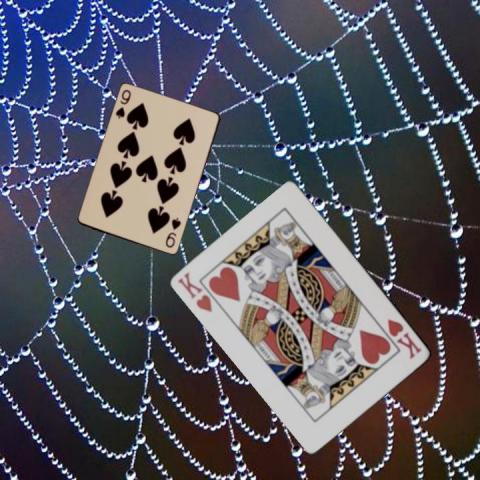9s: (112, 87, 132, 120), (163, 215, 182, 249)
Kh: (385, 316, 424, 361), (175, 269, 214, 314)
